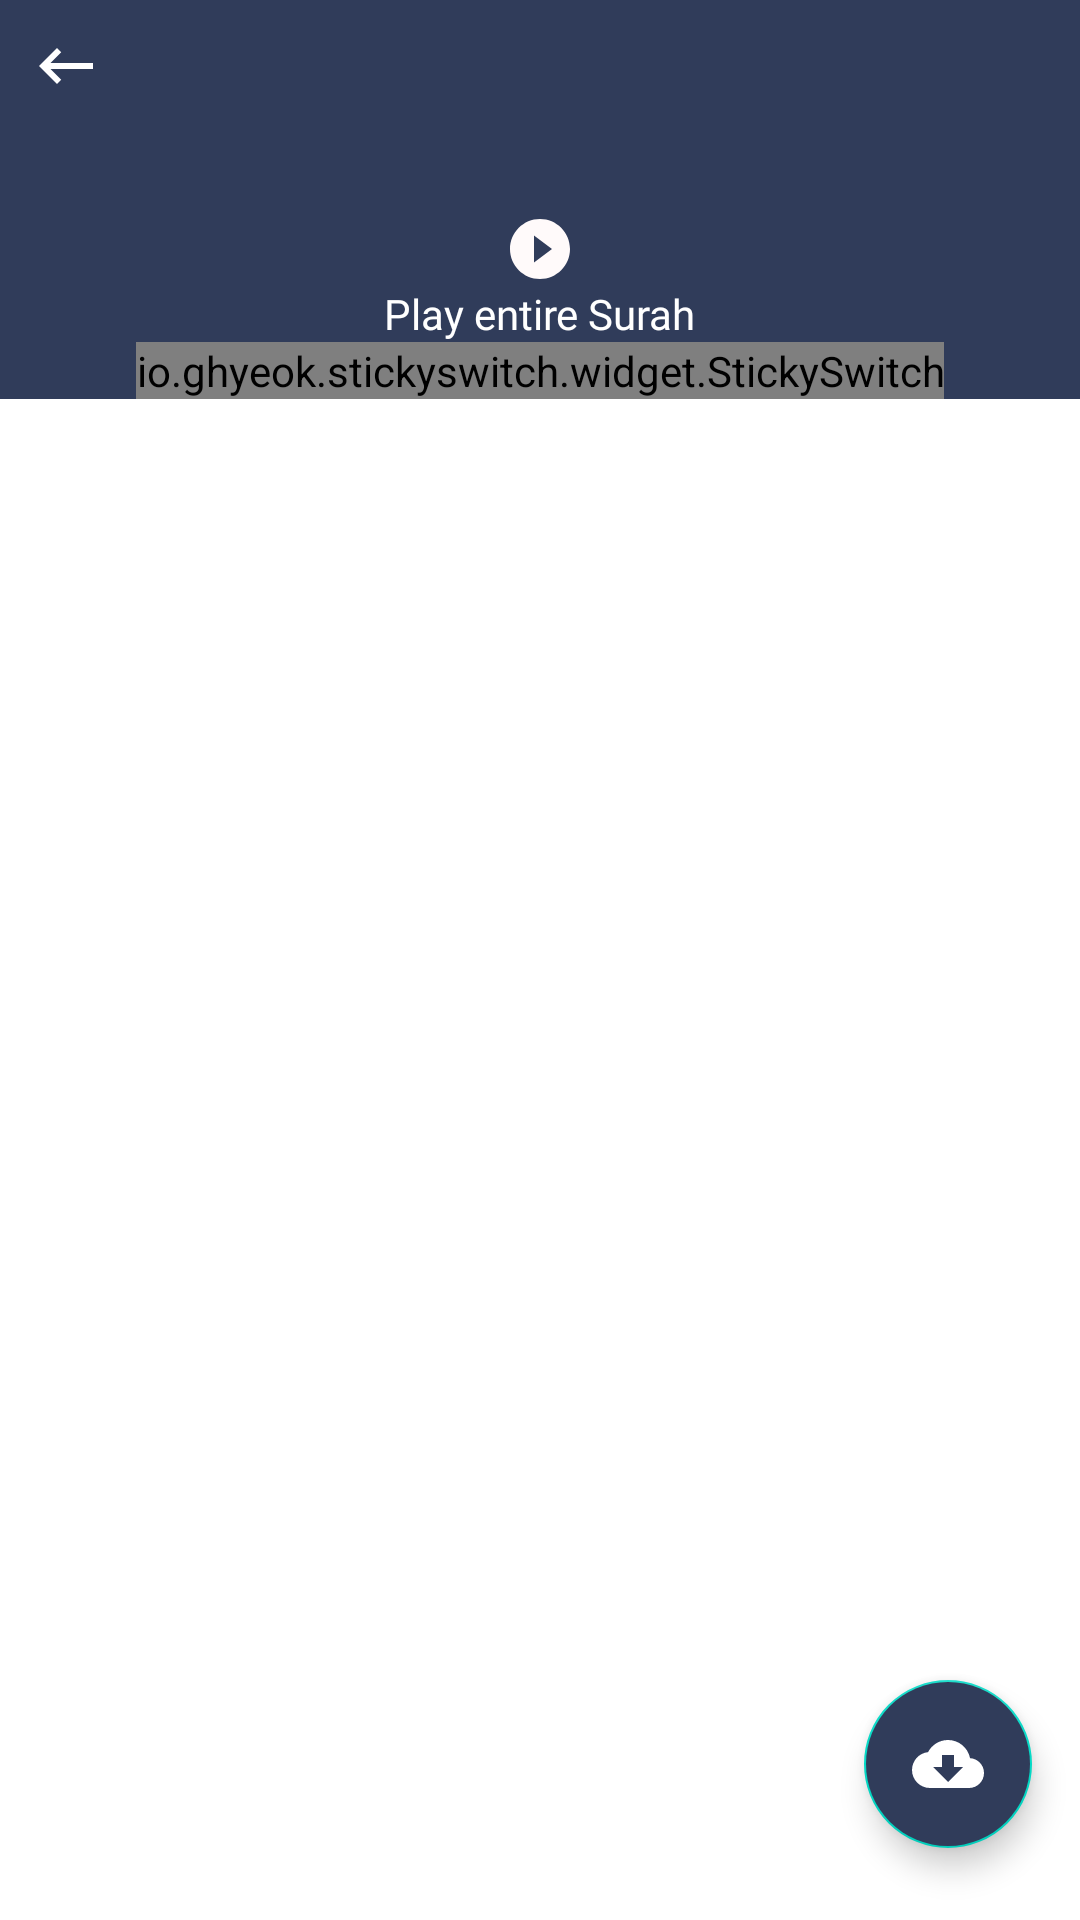

Locate icon controls on the screen. Image size 1080px x 1920px, boxes as box=[x1, y1, x2, y2].
back: box=[39, 48, 93, 84]
Download Surah: box=[864, 1680, 1032, 1848]
